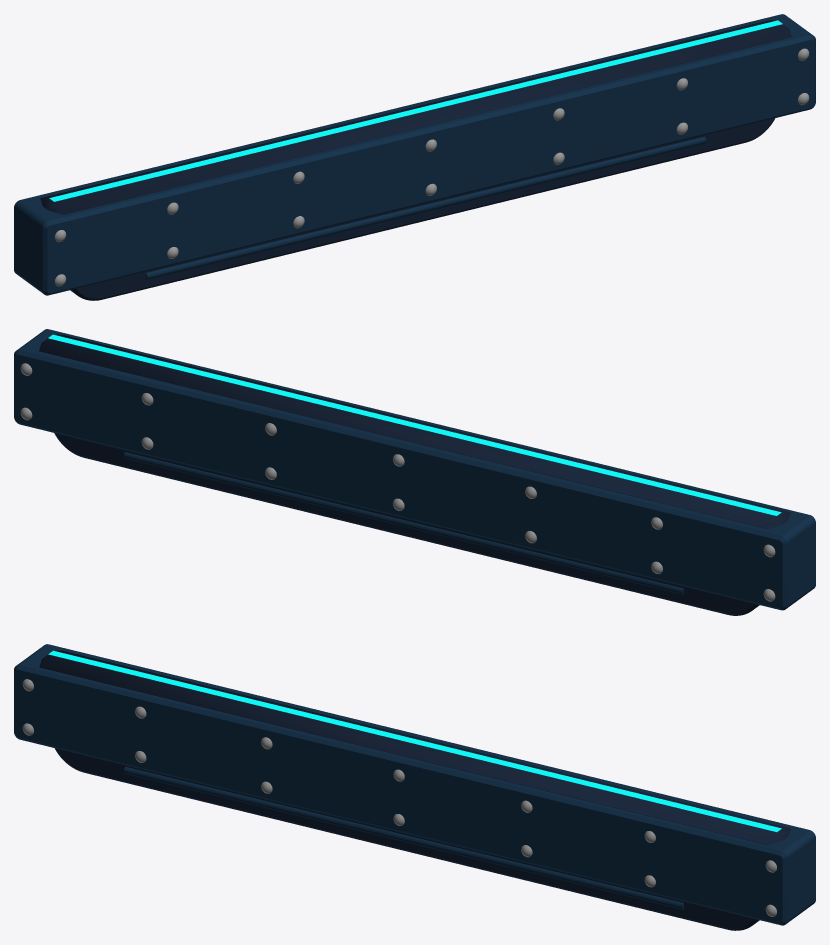
The model's file is Info_sign.fbx.
The picture shows the model from 3 angles, top to bottom: view 1: azimuth 30°, elevation 25°; view 2: azimuth 150°, elevation 25°; view 3: azimuth 330°, elevation 25°; orthographic projection.
Visible parts, largest first — view 1: Extrude_1, Cube_2, Extrude, Cylinder_3; view 2: Extrude_1, Cube_2, Extrude, Cylinder_4; view 3: Extrude_1, Cube_2, Extrude, Cylinder_3.
Boxes of the visible parts, box(x1,y1,x2,y2) form: Extrude_1: box(14, 14, 815, 295); Cube_2: box(40, 20, 791, 214); Extrude: box(70, 118, 775, 300); Cylinder_3: box(146, 136, 705, 279); Extrude_1: box(14, 329, 815, 610); Cube_2: box(39, 334, 790, 528); Extrude: box(54, 433, 759, 615); Cylinder_4: box(124, 452, 683, 594); Extrude_1: box(14, 644, 815, 925); Cube_2: box(39, 650, 790, 845); Extrude: box(54, 748, 759, 930); Cylinder_3: box(124, 766, 683, 909).
Bounding box in the file's own units: 250 × 33.59 × 20.17.
